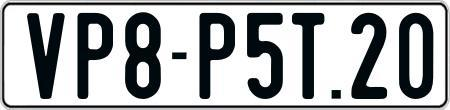0: (396, 10, 433, 101)
2: (349, 13, 391, 99)
5: (247, 13, 284, 101)
8: (124, 11, 160, 99)
P: (77, 13, 117, 101), (200, 13, 237, 104)
T: (291, 11, 326, 99)
V: (26, 11, 70, 102)
